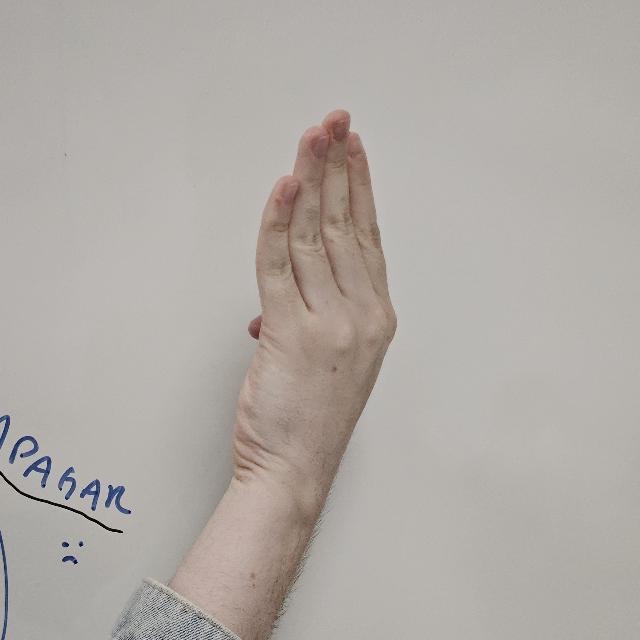Baixo: (231, 92, 401, 482)
